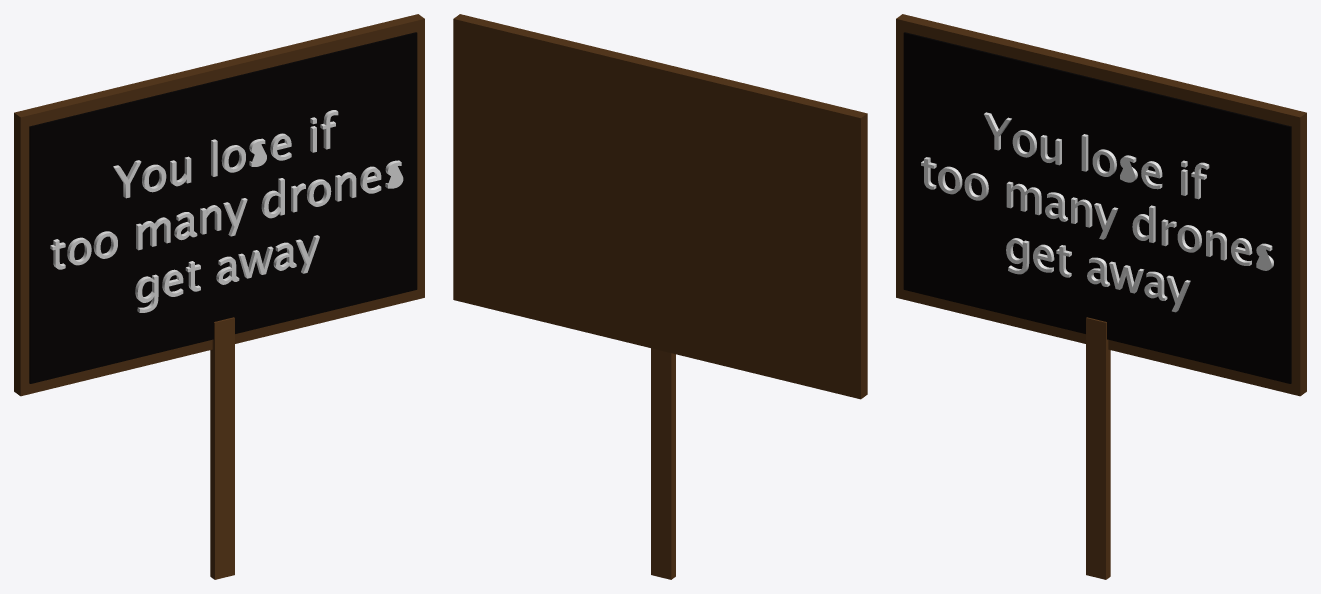
Rendered from TutorialSign3.fbx.
3 views of the same model, side by side, from view 1: azimuth 30°, elevation 25°; view 2: azimuth 150°, elevation 25°; view 3: azimuth 330°, elevation 25° (orthographic).
Visible parts, largest first — view 1: pCube18; view 2: pCube18; view 3: pCube18.
Part boxes in pixels (bbox=[...]): pCube18: bbox=[14, 14, 424, 579]; pCube18: bbox=[453, 14, 867, 579]; pCube18: bbox=[896, 14, 1306, 579].
Size of the model in its own units: 154 by 185 by 6.68.
